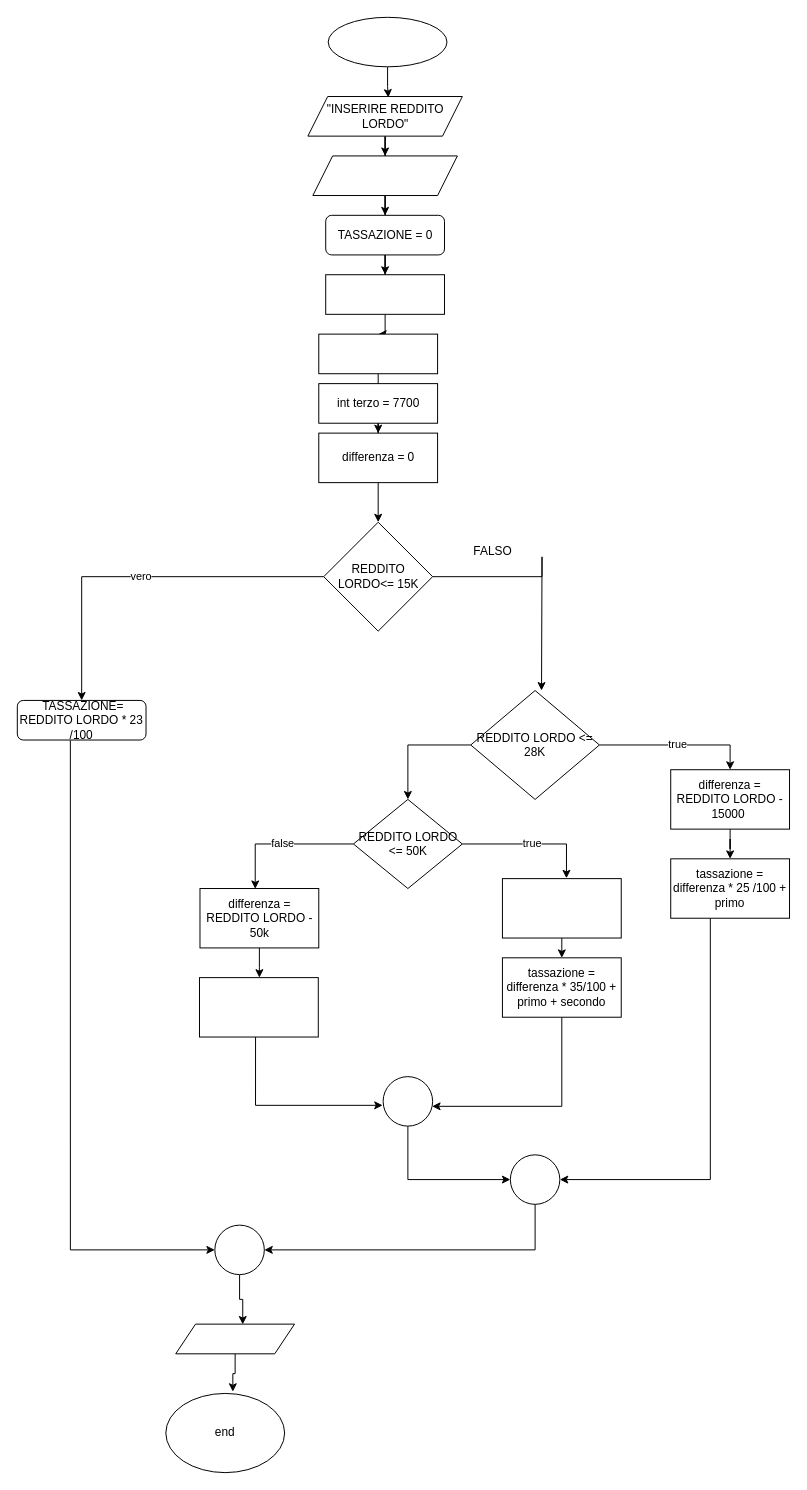
Some shapes in this 807 by 1490 pixel diagram are drawn without their labels. Here are the shapes that lost their labels. From the top down, the centre of each, then its label:
(387,41): INIZIO
(384,175): REDDITO LORDO
(385,294): int primo = 3450 ;
(378,353): int secondo = 3250
(561,908): differenza = REDDITO LORDO - 28000
(258,1007): tassazione = differenza * 43 / 100 + primo + secondo + terzo
(235,1338): "RISULTATO" + TASSAZIONE
